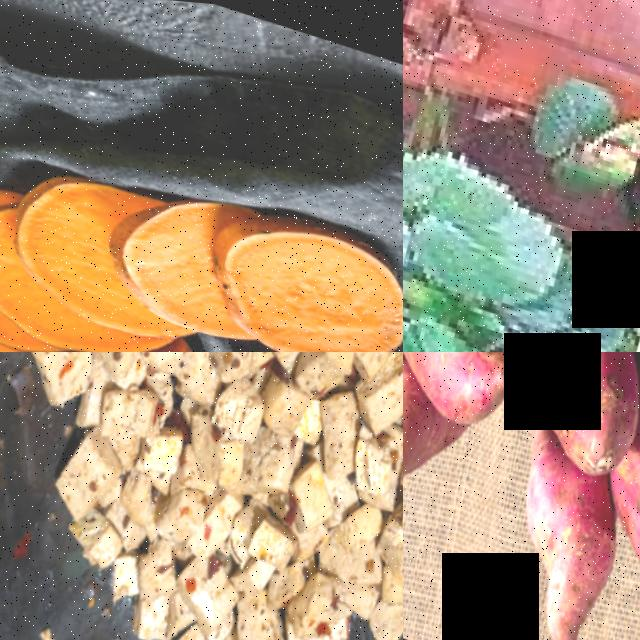strawberry: (624, 180, 640, 280)
sweet potato: (193, 180, 403, 352), (493, 449, 625, 640), (506, 352, 640, 476), (405, 352, 529, 431), (403, 387, 467, 507)
